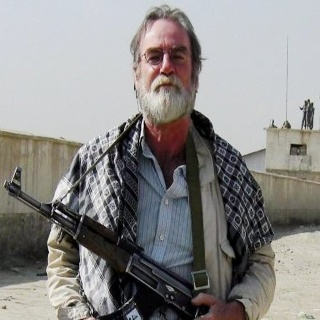rifle: (3, 167, 217, 320)
